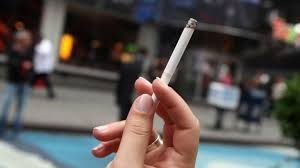sigaretta: (148, 14, 197, 106)
